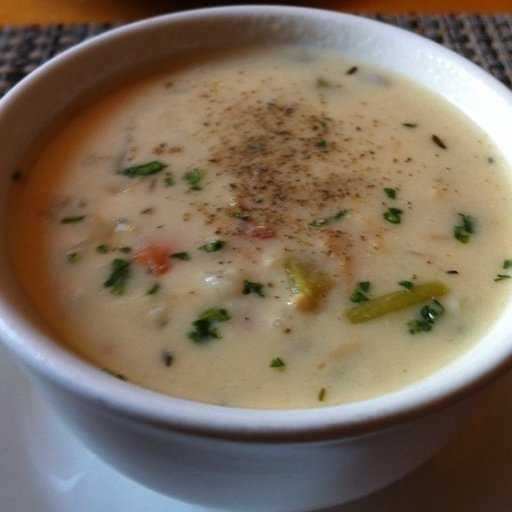soup: (1, 61, 479, 396)
